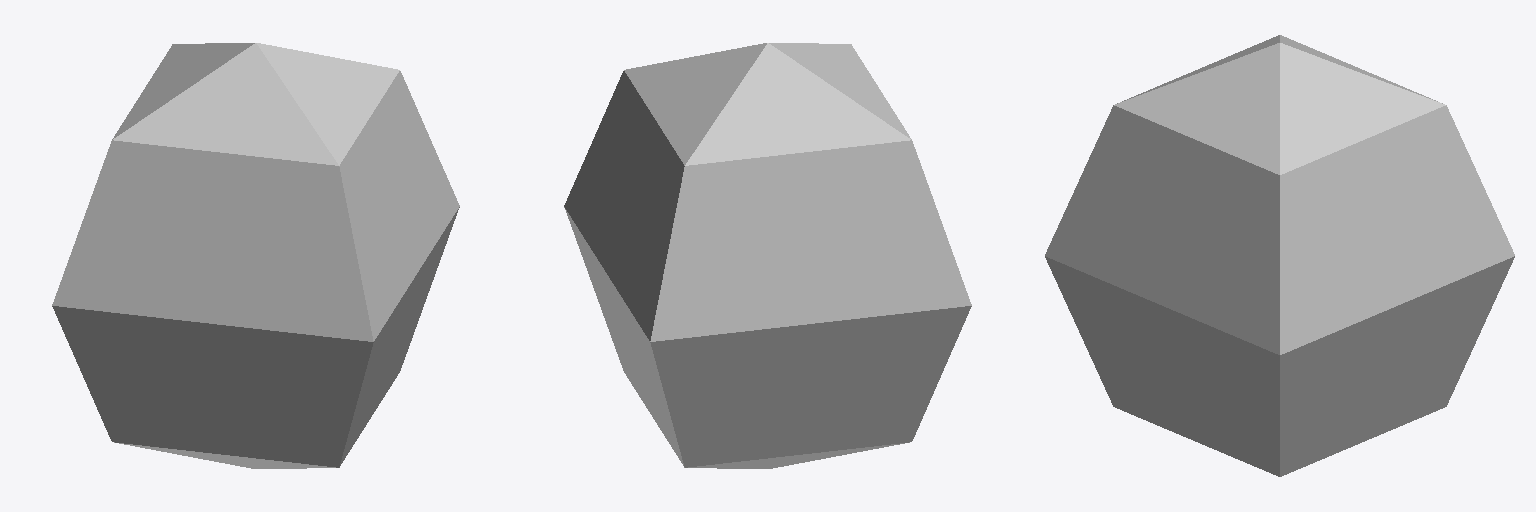
The model's file is bgrnd55-low.obj.
3 views of the same model, side by side, from view 1: azimuth 30°, elevation 25°; view 2: azimuth 150°, elevation 25°; view 3: azimuth 270°, elevation 25° (orthographic).
Parts seen in each view (by area): view 1: frm-sphere7; view 2: frm-sphere7; view 3: frm-sphere7.
Part boxes in pixels (x1,y1,x2,y2): frm-sphere7: (52,43,459,468); frm-sphere7: (564,43,971,468); frm-sphere7: (1045,35,1514,476).
Size of the model in its own units: 10.35 by 10.35 by 10.35.